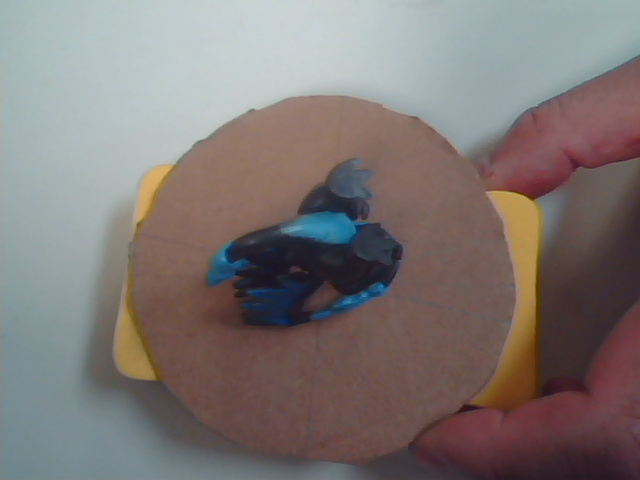charizard: (190, 143, 427, 381)
